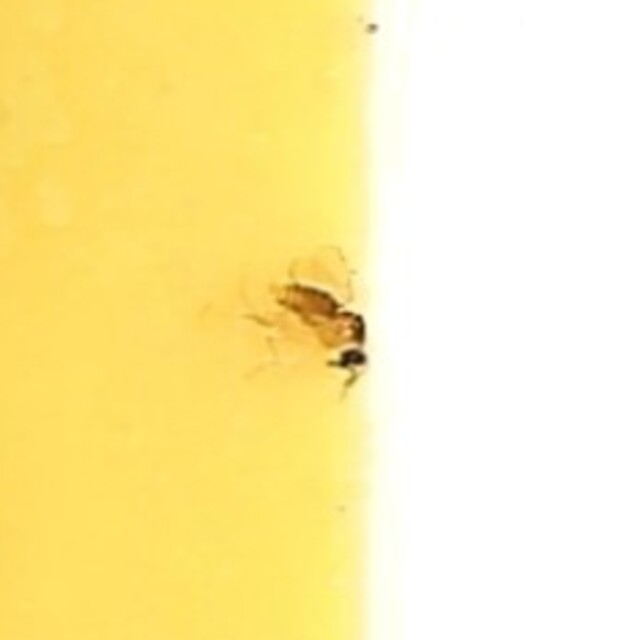Brachycera: (274, 244, 366, 396)
